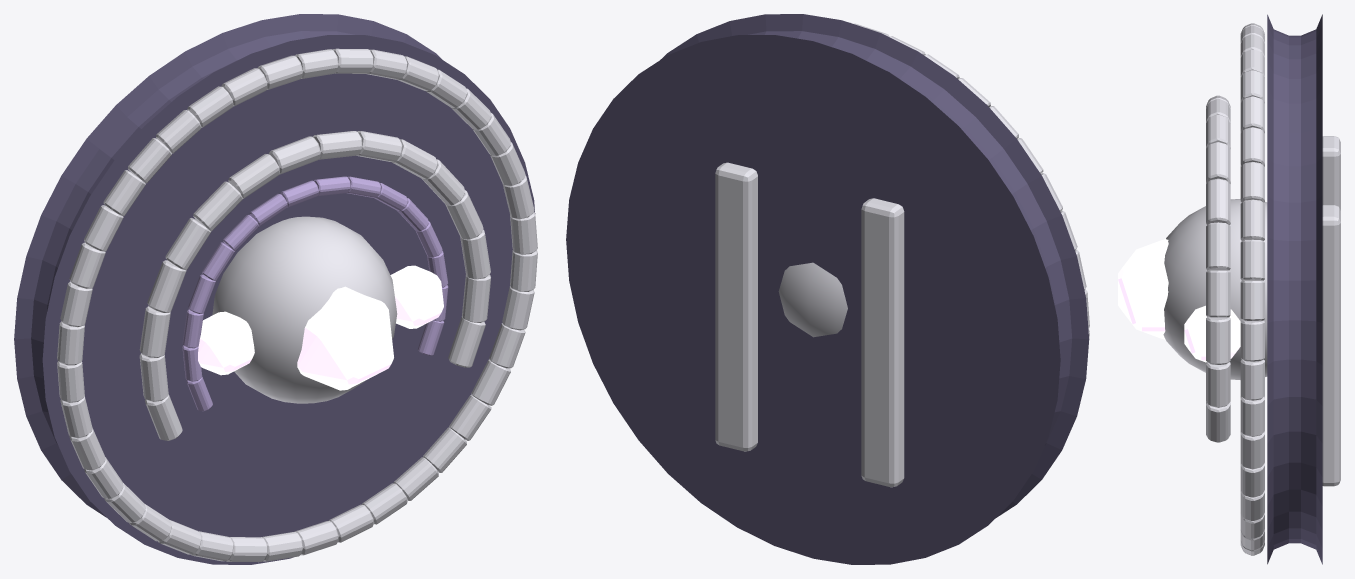
Rendered from warrior-shield-06-eclipse-moon.glb.
The picture shows the model from 3 angles, left to right: view 1: azimuth 30°, elevation 25°; view 2: azimuth 150°, elevation 25°; view 3: azimuth 270°, elevation 25°; orthographic projection. The views are drawn at different scales.
Parts seen in each view (by area): view 1: warrior-shield-06-eclipse-moon_ShieldBack, warrior-shield-06-eclipse-moon_BossBase, warrior-shield-06-eclipse-moon_BossGem, warrior-shield-06-eclipse-moon_MoonFacet_-1, warrior-shield-06-eclipse-moon_MoonFacet_1, warrior-shield-06-eclipse-moon_LunarArc_0.38_6, warrior-shield-06-eclipse-moon_LunarArc_0.38_5, warrior-shield-06-eclipse-moon_LunarArc_0.38_4, warrior-shield-06-eclipse-moon_LunarArc_0.38_7, warrior-shield-06-eclipse-moon_LunarArc_0.38_3, warrior-shield-06-eclipse-moon_LunarArc_0.38_16, warrior-shield-06-eclipse-moon_LunarArc_0.38_8 (+53 smaller); view 2: warrior-shield-06-eclipse-moon_ShieldBack, warrior-shield-06-eclipse-moon_BackStrap_-1, warrior-shield-06-eclipse-moon_BackStrap_1, warrior-shield-06-eclipse-moon_BossBase; view 3: warrior-shield-06-eclipse-moon_ShieldBack, warrior-shield-06-eclipse-moon_BossBase, warrior-shield-06-eclipse-moon_BackStrap_1, warrior-shield-06-eclipse-moon_BossGem, warrior-shield-06-eclipse-moon_MoonFacet_1, warrior-shield-06-eclipse-moon_BackStrap_-1, warrior-shield-06-eclipse-moon_LunarArc_0.38_12, warrior-shield-06-eclipse-moon_LunarArc_0.38_13, warrior-shield-06-eclipse-moon_LunarArc_0.38_14, warrior-shield-06-eclipse-moon_LunarArc_0.38_11, warrior-shield-06-eclipse-moon_LunarArc_0.38_15, warrior-shield-06-eclipse-moon_RaisedRim_7 (+20 smaller).
Part boxes in pixels (box(x1,y1,x2,y2)): warrior-shield-06-eclipse-moon_ShieldBack: box(14, 14, 535, 564); warrior-shield-06-eclipse-moon_BossBase: box(212, 216, 397, 403); warrior-shield-06-eclipse-moon_BossGem: box(297, 286, 393, 390); warrior-shield-06-eclipse-moon_MoonFacet_-1: box(198, 311, 254, 375); warrior-shield-06-eclipse-moon_MoonFacet_1: box(390, 265, 443, 328); warrior-shield-06-eclipse-moon_LunarArc_0.38_6: box(193, 181, 242, 231); warrior-shield-06-eclipse-moon_LunarArc_0.38_5: box(165, 218, 210, 270); warrior-shield-06-eclipse-moon_LunarArc_0.38_4: box(147, 260, 186, 312); warrior-shield-06-eclipse-moon_LunarArc_0.38_7: box(228, 154, 279, 198); warrior-shield-06-eclipse-moon_LunarArc_0.38_3: box(139, 306, 170, 357); warrior-shield-06-eclipse-moon_LunarArc_0.38_16: box(448, 316, 485, 367); warrior-shield-06-eclipse-moon_LunarArc_0.38_8: box(269, 136, 320, 174); warrior-shield-06-eclipse-moon_ShieldBack: box(566, 14, 1089, 564); warrior-shield-06-eclipse-moon_BackStrap_-1: box(861, 198, 904, 487); warrior-shield-06-eclipse-moon_BackStrap_1: box(715, 162, 757, 451); warrior-shield-06-eclipse-moon_BossBase: box(778, 262, 847, 337); warrior-shield-06-eclipse-moon_ShieldBack: box(1267, 14, 1322, 564); warrior-shield-06-eclipse-moon_BossBase: box(1163, 199, 1267, 379); warrior-shield-06-eclipse-moon_BackStrap_1: box(1322, 205, 1340, 486); warrior-shield-06-eclipse-moon_BossGem: box(1118, 239, 1168, 339); warrior-shield-06-eclipse-moon_MoonFacet_1: box(1184, 305, 1240, 362); warrior-shield-06-eclipse-moon_BackStrap_-1: box(1322, 136, 1340, 210); warrior-shield-06-eclipse-moon_LunarArc_0.38_12: box(1206, 222, 1230, 270); warrior-shield-06-eclipse-moon_LunarArc_0.38_13: box(1206, 270, 1230, 317); warrior-shield-06-eclipse-moon_LunarArc_0.38_14: box(1206, 317, 1230, 364); warrior-shield-06-eclipse-moon_LunarArc_0.38_11: box(1206, 178, 1230, 224); warrior-shield-06-eclipse-moon_LunarArc_0.38_15: box(1206, 362, 1230, 407); warrior-shield-06-eclipse-moon_RaisedRim_7: box(1240, 239, 1264, 280).
Size of the model in its own units: 1.15 by 1.15 by 0.4652.
